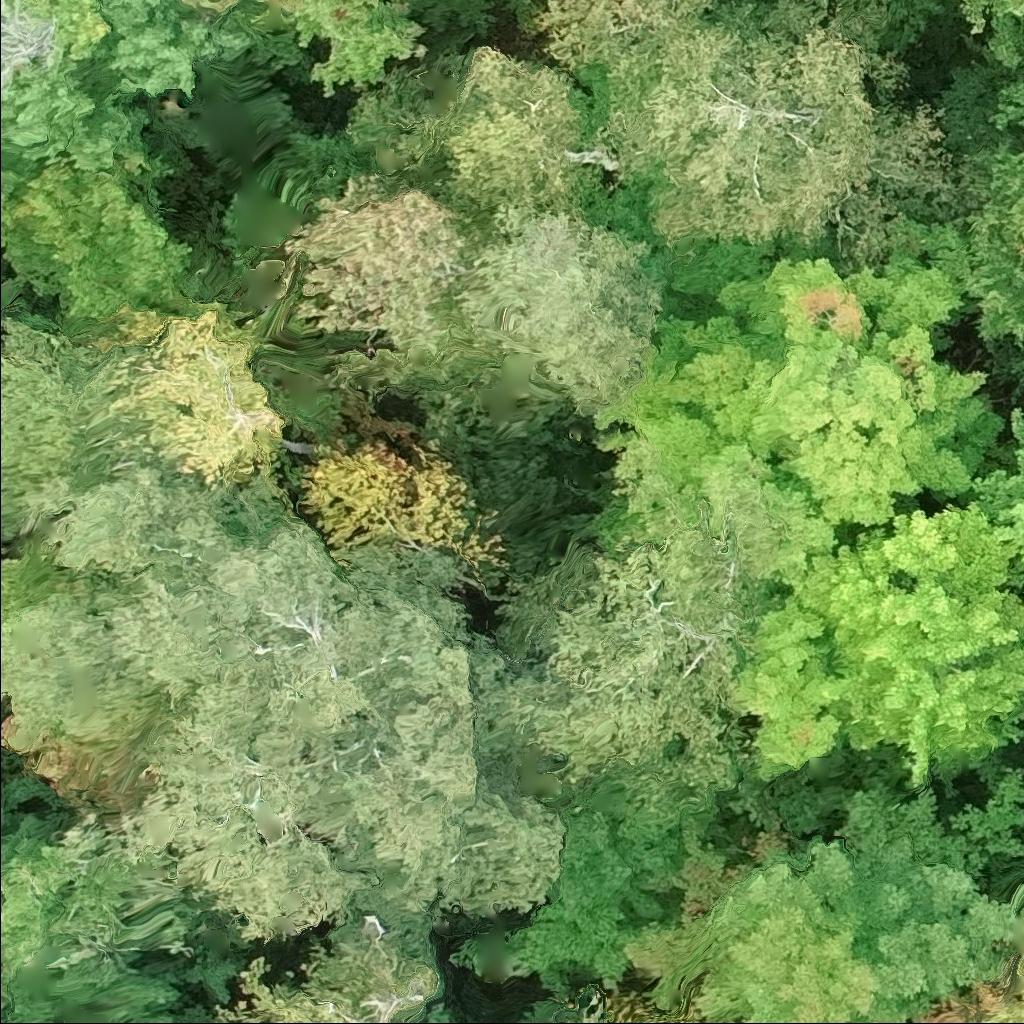crown: (596, 244, 1007, 592), (727, 503, 1023, 790), (599, 1, 884, 249), (432, 44, 581, 220), (931, 128, 1023, 348), (964, 404, 1023, 594), (959, 0, 1023, 68), (988, 62, 1023, 129), (988, 1005, 1023, 1023)
